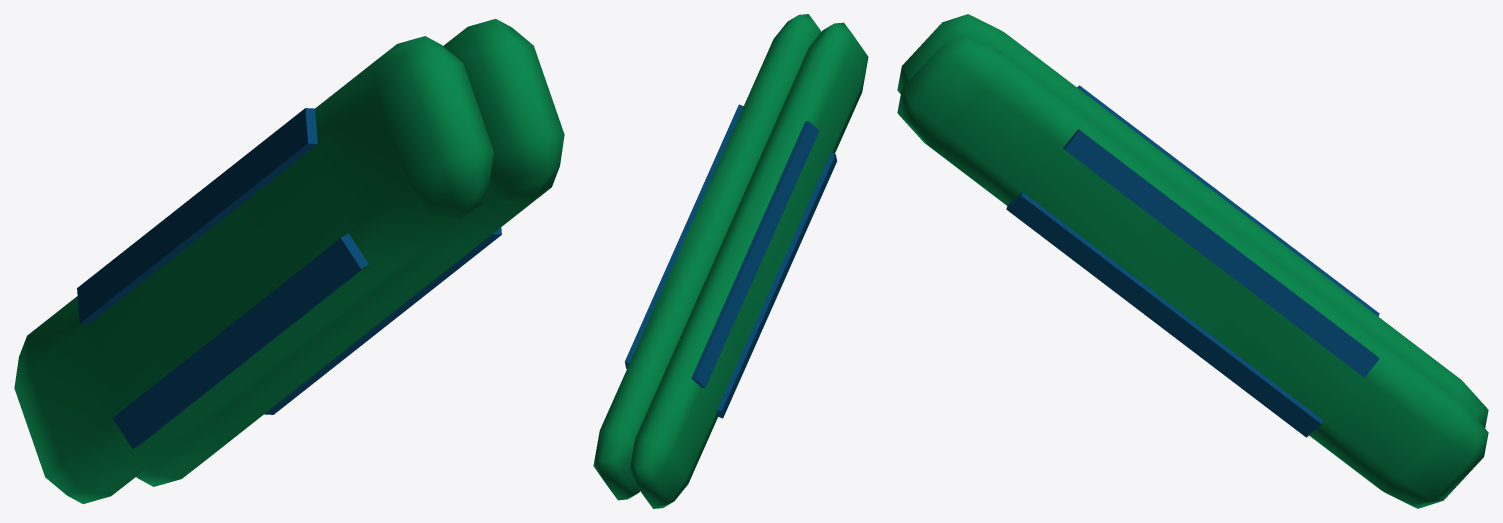
Rendered from partie 3 du bras.FBX.
3 views of the same model, side by side, from view 1: azimuth 30°, elevation 25°; view 2: azimuth 150°, elevation 25°; view 3: azimuth 270°, elevation 25° (orthographic). The views are drawn at different scales.
Visible parts, largest first — view 1: Bras mécanique 003; view 2: Bras mécanique 003; view 3: Bras mécanique 003.
Part boxes in pixels (bbox=[...]): Bras mécanique 003: bbox=[14, 19, 564, 503]; Bras mécanique 003: bbox=[593, 14, 868, 508]; Bras mécanique 003: bbox=[897, 14, 1488, 508].
Bounding box in the file's own units: 40.3 × 175 × 198.
